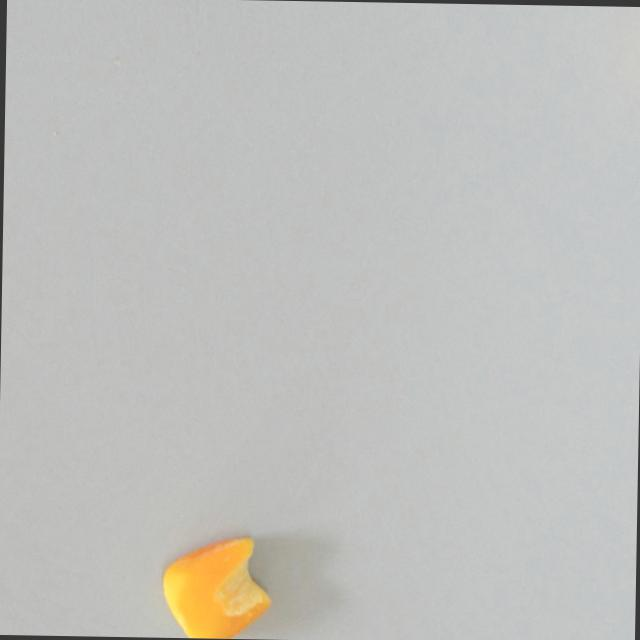no_desgerminado: (157, 534, 271, 639)
